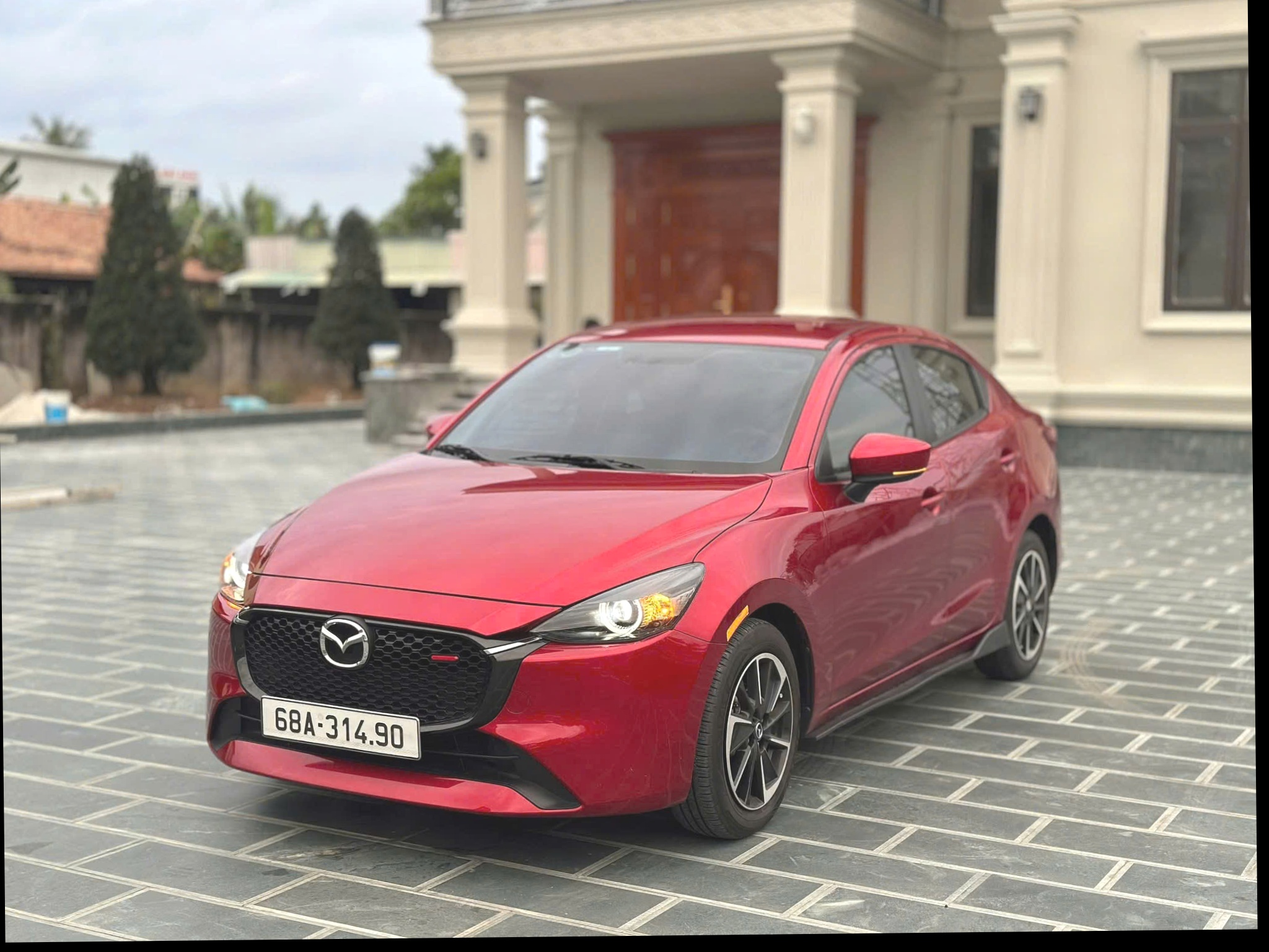Bien-so: (266, 697, 416, 757)
